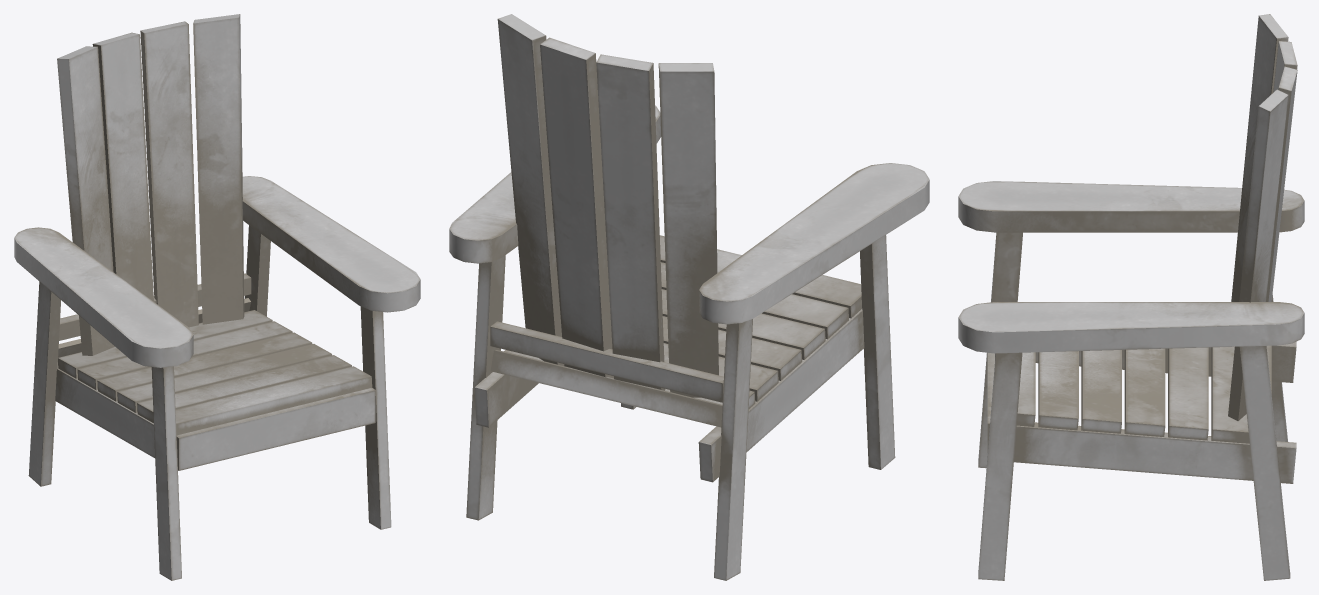
Rendered from Chair.fbx.
3 views of the same model, side by side, from view 1: azimuth 30°, elevation 25°; view 2: azimuth 150°, elevation 25°; view 3: azimuth 270°, elevation 25° (orthographic). The views are drawn at different scales.
Visible parts, largest first — view 1: Chair_low; view 2: Chair_low; view 3: Chair_low.
Boxes of the visible parts, x1,y1,x2,y2 form: Chair_low: (14, 14, 420, 580); Chair_low: (449, 14, 929, 580); Chair_low: (958, 14, 1304, 580).
Bounding box in the file's own units: 104 × 148 × 100.
